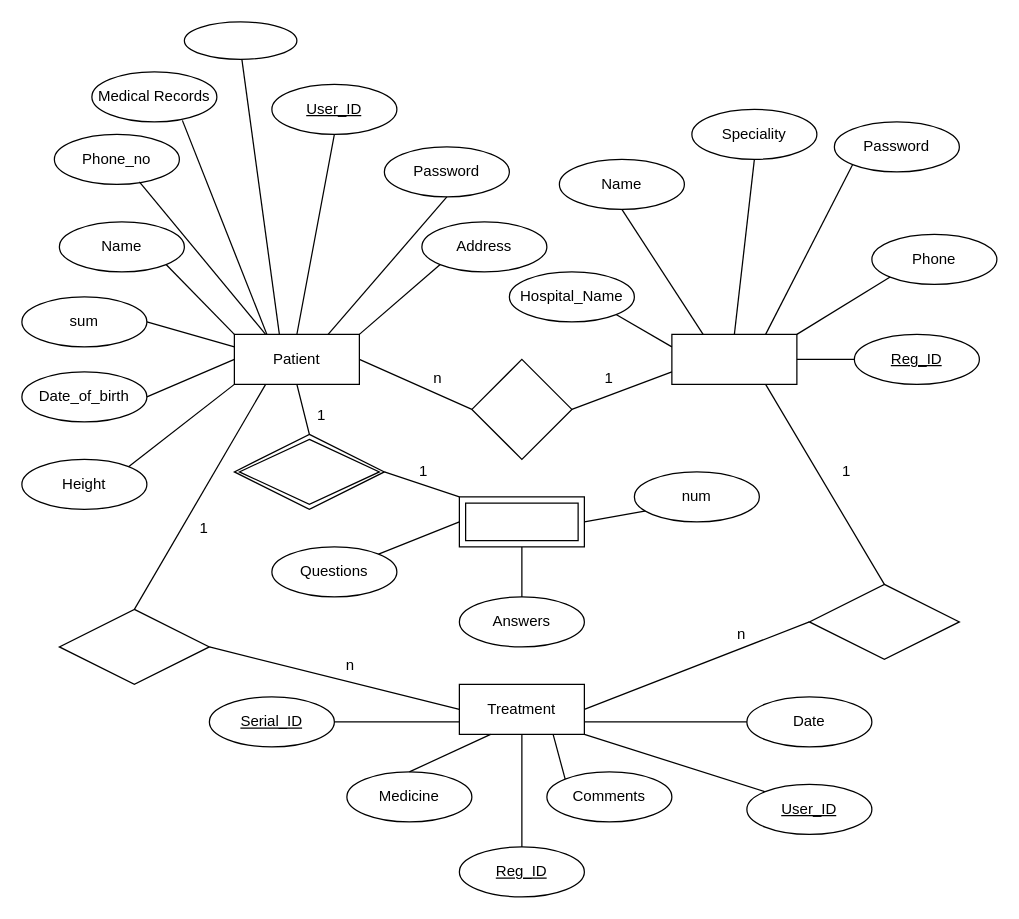
Some shapes in this 1019 by 919 pixel diagram are drawn without their labels. Each missing label, with the box of its shape:
Answer: (233, 433, 384, 509)
Doctor: (671, 333, 797, 384)
evaluation: (458, 496, 584, 547)
Gender: (183, 21, 297, 59)
Gives: (808, 583, 959, 659)
Has: (471, 358, 572, 459)
Receives: (58, 608, 209, 684)
